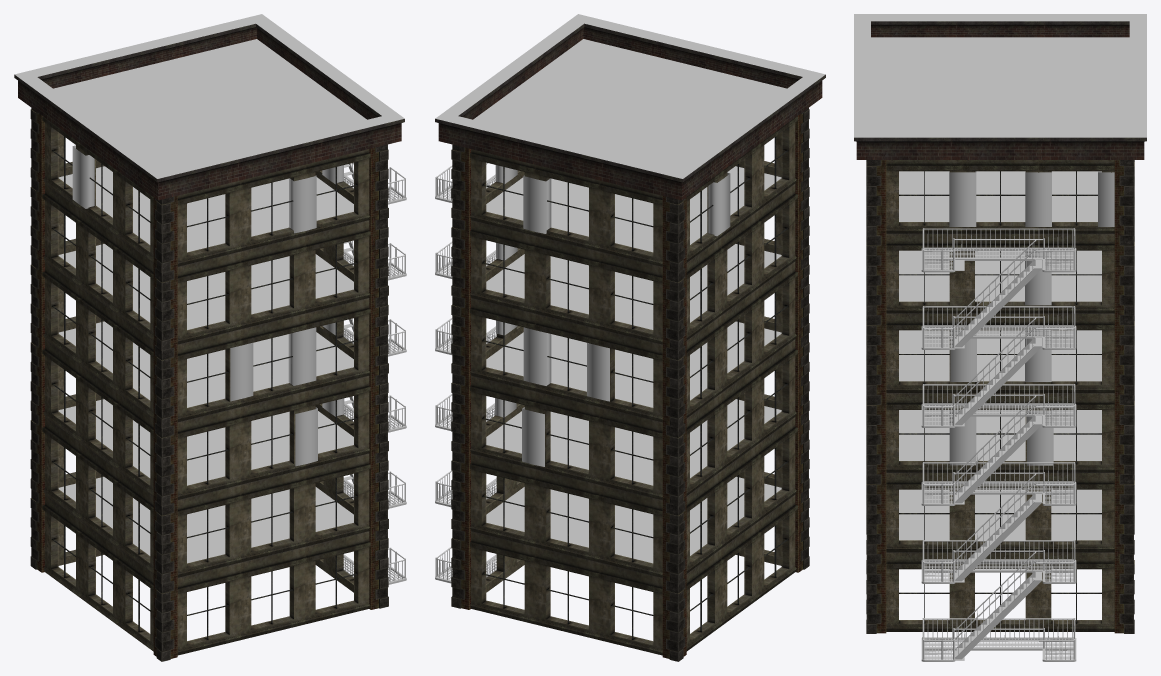
Rendered from BuildingTanSm02_stairs.fbx.
3 views of the same model, side by side, from view 1: azimuth 30°, elevation 25°; view 2: azimuth 150°, elevation 25°; view 3: azimuth 270°, elevation 25° (orthographic). The views are drawn at different scales.
Parts seen in each view (by area): view 1: Cube.551, Cube.553, Plane.090, Plane.093, Plane.091, Plane.094, Plane.092, Cube.679, Cube.598, Cube.597, Cube.599, Cube.600 (+1 smaller); view 2: Cube.551, Cube.553, Plane.090, Plane.093, Plane.091, Plane.092, Plane.094, Cube.679, Cube.603, Cube.602, Cube.604, Cube.601 (+1 smaller); view 3: Cube.551, Cube.553, Cube.679, Plane.094, Plane.093, Plane.090, Plane.092, Plane.091, Cube.591, Cube.590, Cube.605, Cube.596 (+4 smaller).
Part boxes in pixels (x1,y1,x2,y2): Cube.551: (30,108,388,661); Cube.553: (14,14,404,200); Plane.090: (58,477,353,563); Plane.093: (58,244,353,329); Plane.091: (58,399,353,485); Plane.094: (58,166,353,252); Plane.092: (58,321,353,407); Cube.679: (343,163,406,584); Cube.598: (288,327,316,385); Cube.597: (289,175,316,233); Cube.599: (230,342,253,401); Cube.600: (295,407,317,466); Cube.551: (451,108,809,661); Cube.553: (435,14,825,200); Plane.090: (486,476,781,563); Plane.093: (486,244,781,329); Plane.091: (486,399,781,485); Plane.092: (486,321,781,407); Plane.094: (486,166,781,252); Cube.679: (435,163,496,583); Cube.603: (523,327,551,385); Cube.602: (523,175,551,233); Cube.604: (587,342,609,401); Cube.601: (522,407,544,466); Cube.551: (866,160,1134,633); Cube.553: (854,14,1146,159); Cube.679: (921,228,1076,661); Plane.094: (899,171,1097,221); Plane.093: (899,250,1101,301); Plane.090: (899,489,1101,540); Plane.092: (899,330,1101,381); Plane.091: (899,410,1101,460); Cube.591: (949,171,976,226); Cube.590: (1025,171,1051,226); Cube.605: (949,410,976,465); Cube.596: (1027,410,1053,465).
Size of what is drawn, in the model's own units: 1556 by 2595 by 1360.
